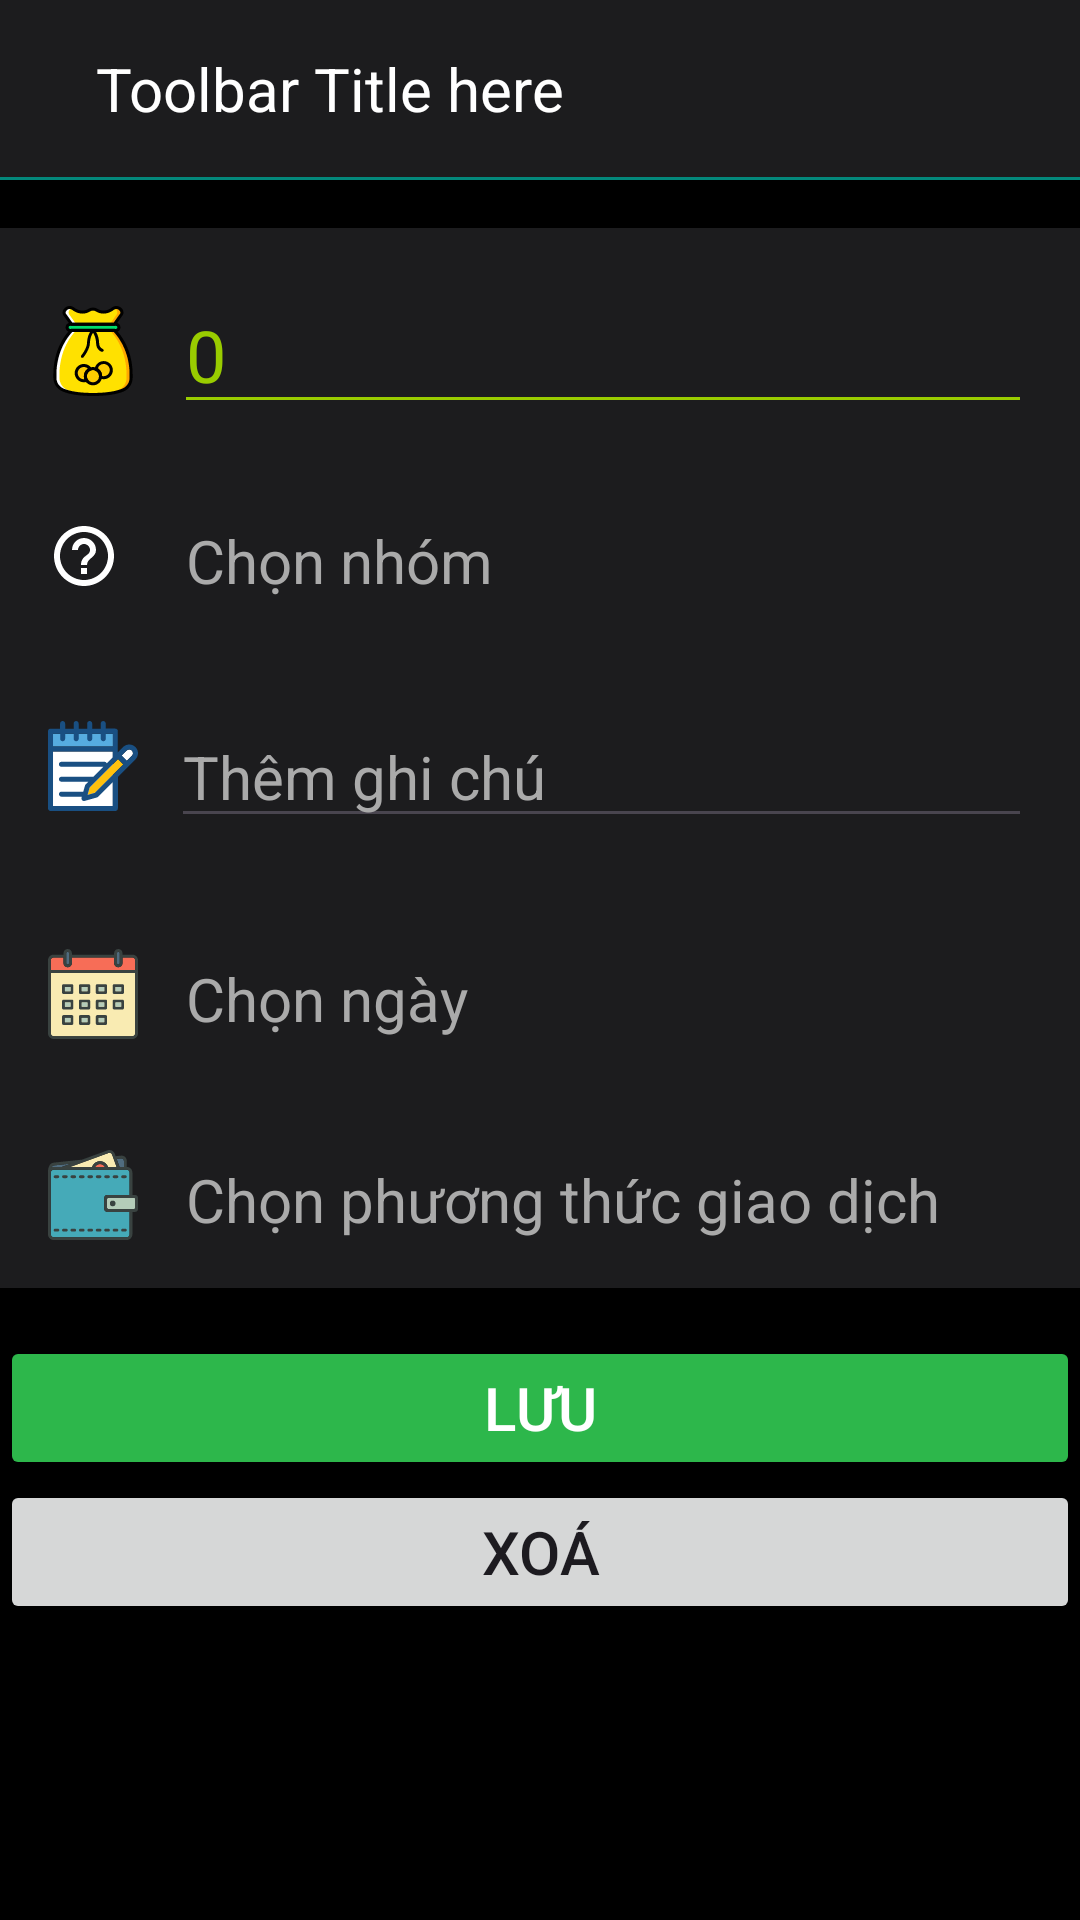

Icons on this 1080 × 1920 Android screen, each with its box as (x1, y1, x2, y2):
Icon calendar: (48, 949, 138, 1039)
Icon help: (54, 526, 114, 586)
Icon method wallet: (48, 1150, 138, 1240)
Icon moneybag: (54, 306, 132, 396)
Icon notes: (48, 721, 138, 811)
